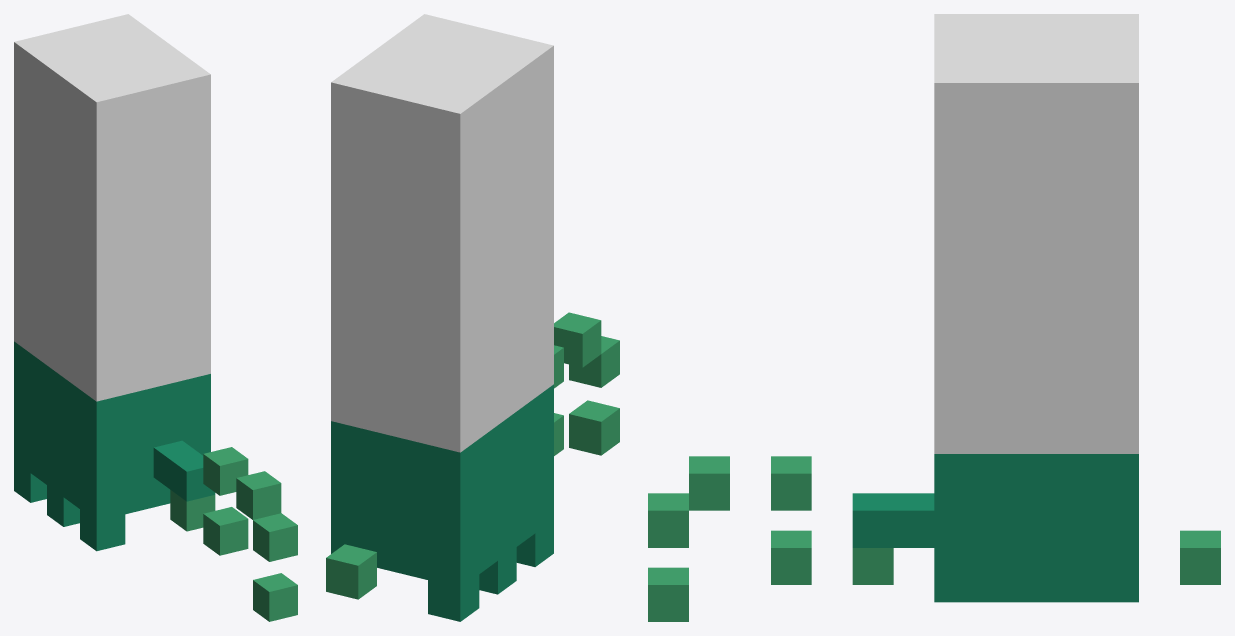
The model's file is Osiris-3.obj.
The picture shows the model from 3 angles, left to right: view 1: azimuth 30°, elevation 25°; view 2: azimuth 150°, elevation 25°; view 3: azimuth 270°, elevation 25°; orthographic projection. The views are drawn at different scales.
Bounding box in the file's own units: 0.4 × 1.5 × 1.4.
1 material, 1 textured.
